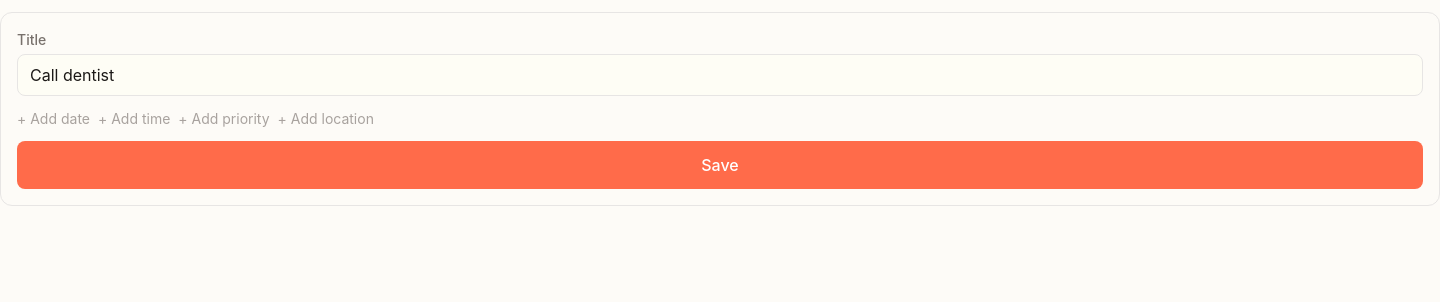
Test case: ExtractionForm › + Add controls › clicking "+ Add date" reveals an editable date field
Click the button "+ Add date": (54, 118) [17,108,90,129]
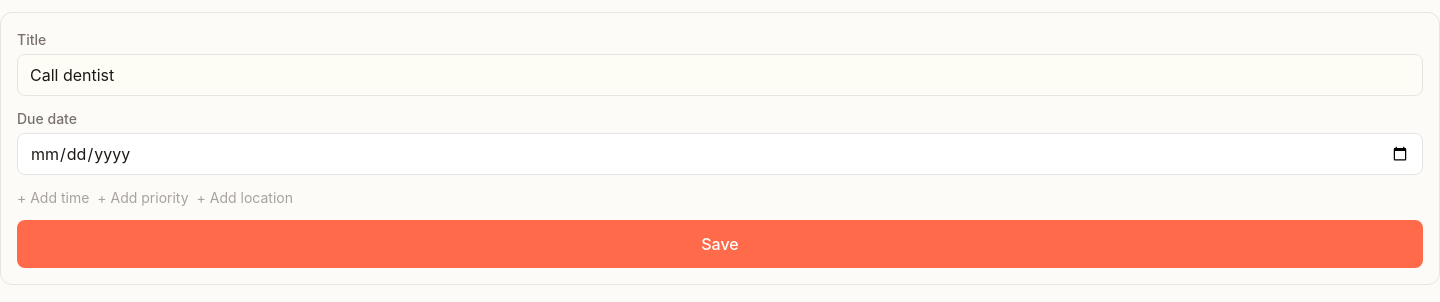
Now the date field labelled "Due date" is shown, box [17,133,1423,175]
Now the button "+ Add date" is gone
